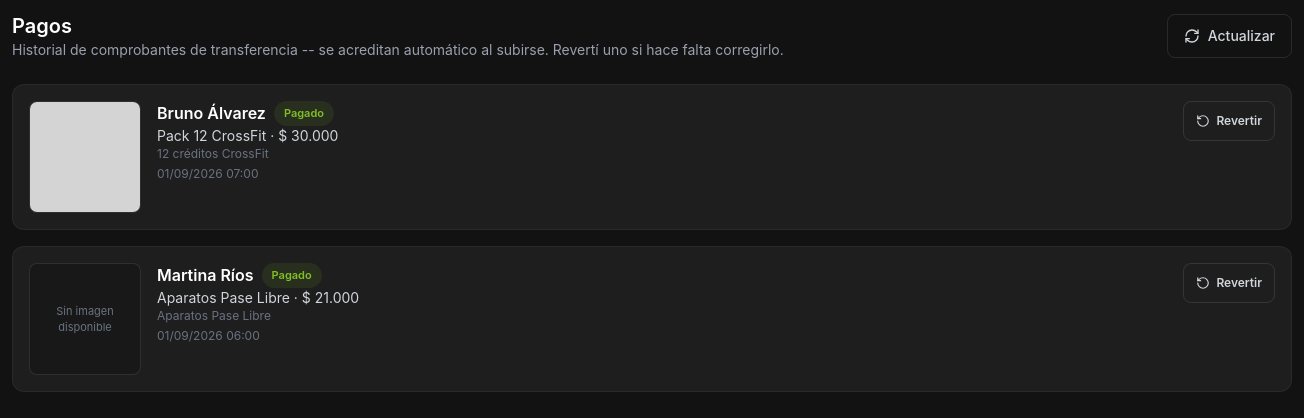
Pagos (Fase 3 -- historial de comprobantes, acreditación automática + reversión) › Revertir: "No se pudo revertir … No se cambió nada" se ve completo bajo esa fila, la fila sigue "Pagado" y no hay toast
Check: the text "Bruno Álvarez" is shown, box x1=157 y1=101 x2=266 y2=125
Click the button "Revertir" in the row of "Bruno Álvarez": (1229, 121) x1=1183 y1=101 x2=1275 y2=141
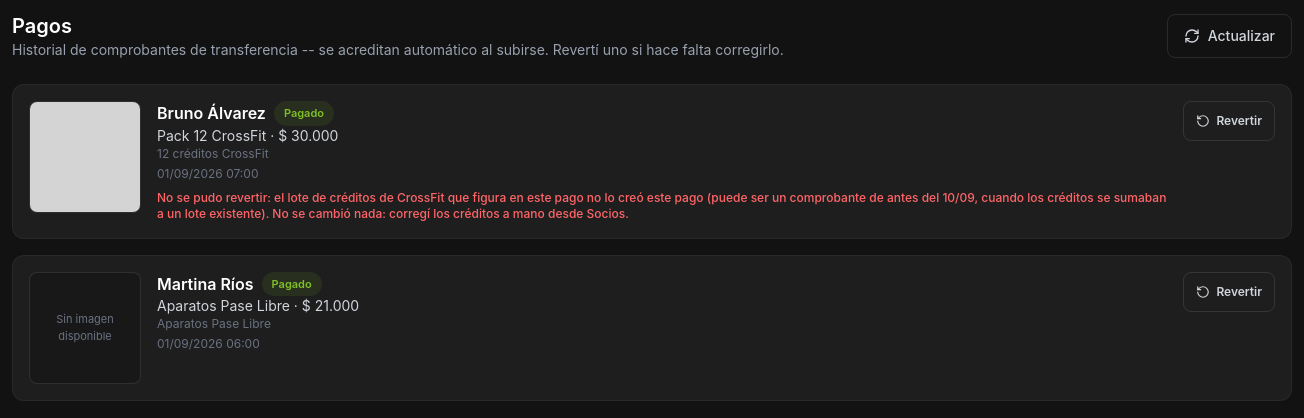
Check: the text "Pagado" next to "Bruno Álvarez" is shown, box x1=284 y1=106 x2=324 y2=120
Check: the text "No se pudo revertir: el lote de créditos de CrossFit que figura en este pago no lo creó este pago (puede ser un comproba" is shown, box x1=157 y1=190 x2=1166 y2=220
